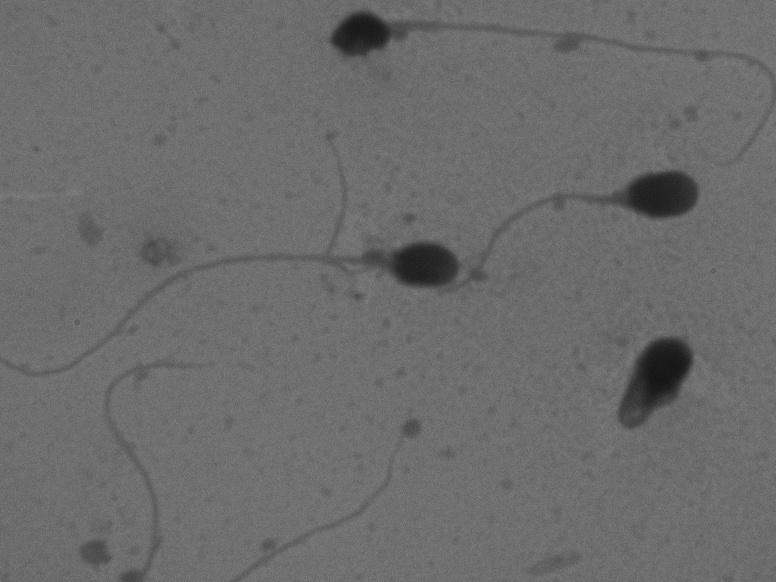Abnormal: (288, 7, 764, 141), (463, 152, 723, 307), (584, 323, 728, 459)
Normal: (4, 226, 477, 408)
